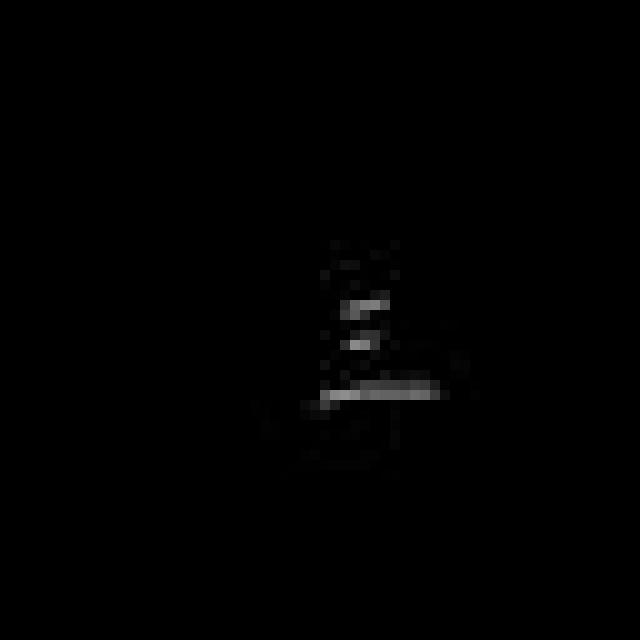3 -three-: (302, 284, 459, 424)
